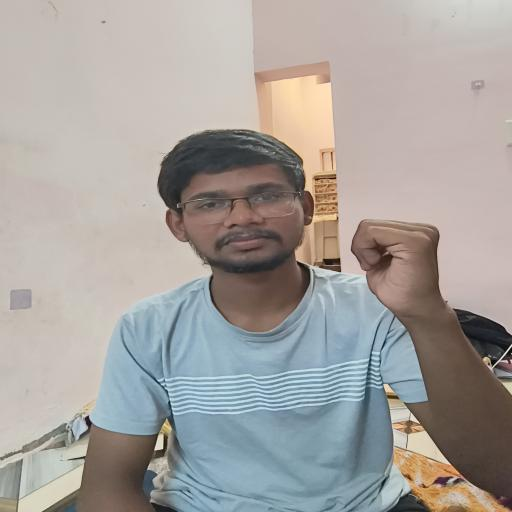wait: (335, 209, 484, 331)
